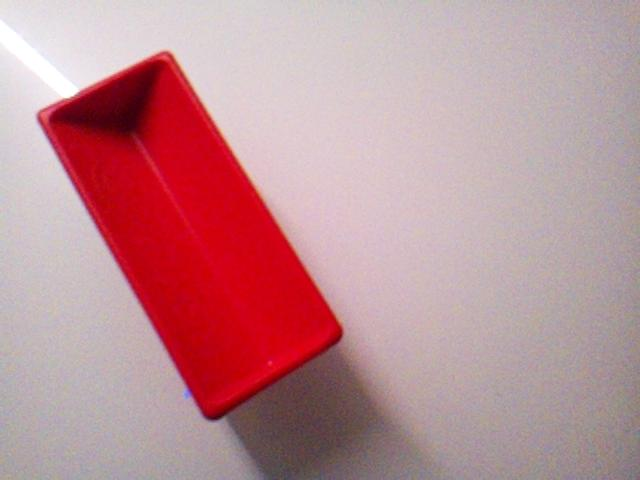red: (36, 49, 345, 421)
